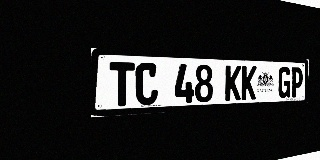4: (175, 64, 195, 103)
8: (195, 64, 213, 102)
C: (135, 63, 158, 106)
G: (278, 67, 291, 98)
K: (225, 65, 241, 101), (241, 66, 257, 100)
P: (290, 67, 303, 98)
T: (109, 62, 135, 107)
